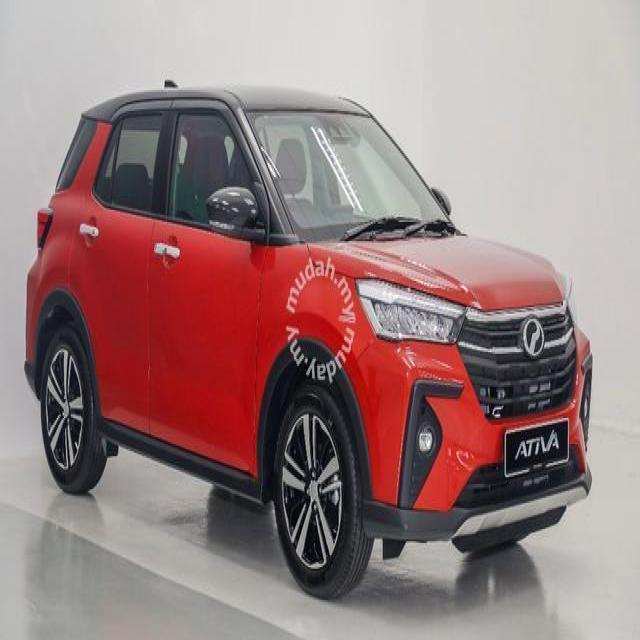PeroduaAtiva: (22, 78, 595, 600)
